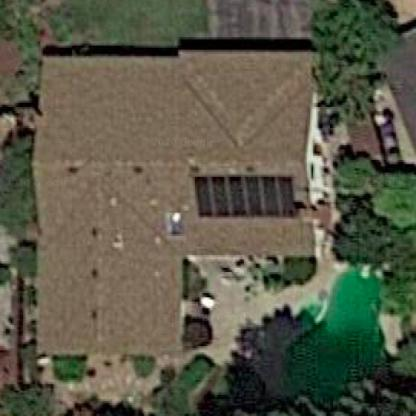solar_panel: (184, 164, 306, 228)
swimming_pool: (275, 248, 398, 416)
